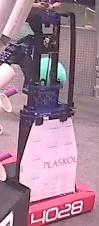red_number: (30, 198, 85, 225)
